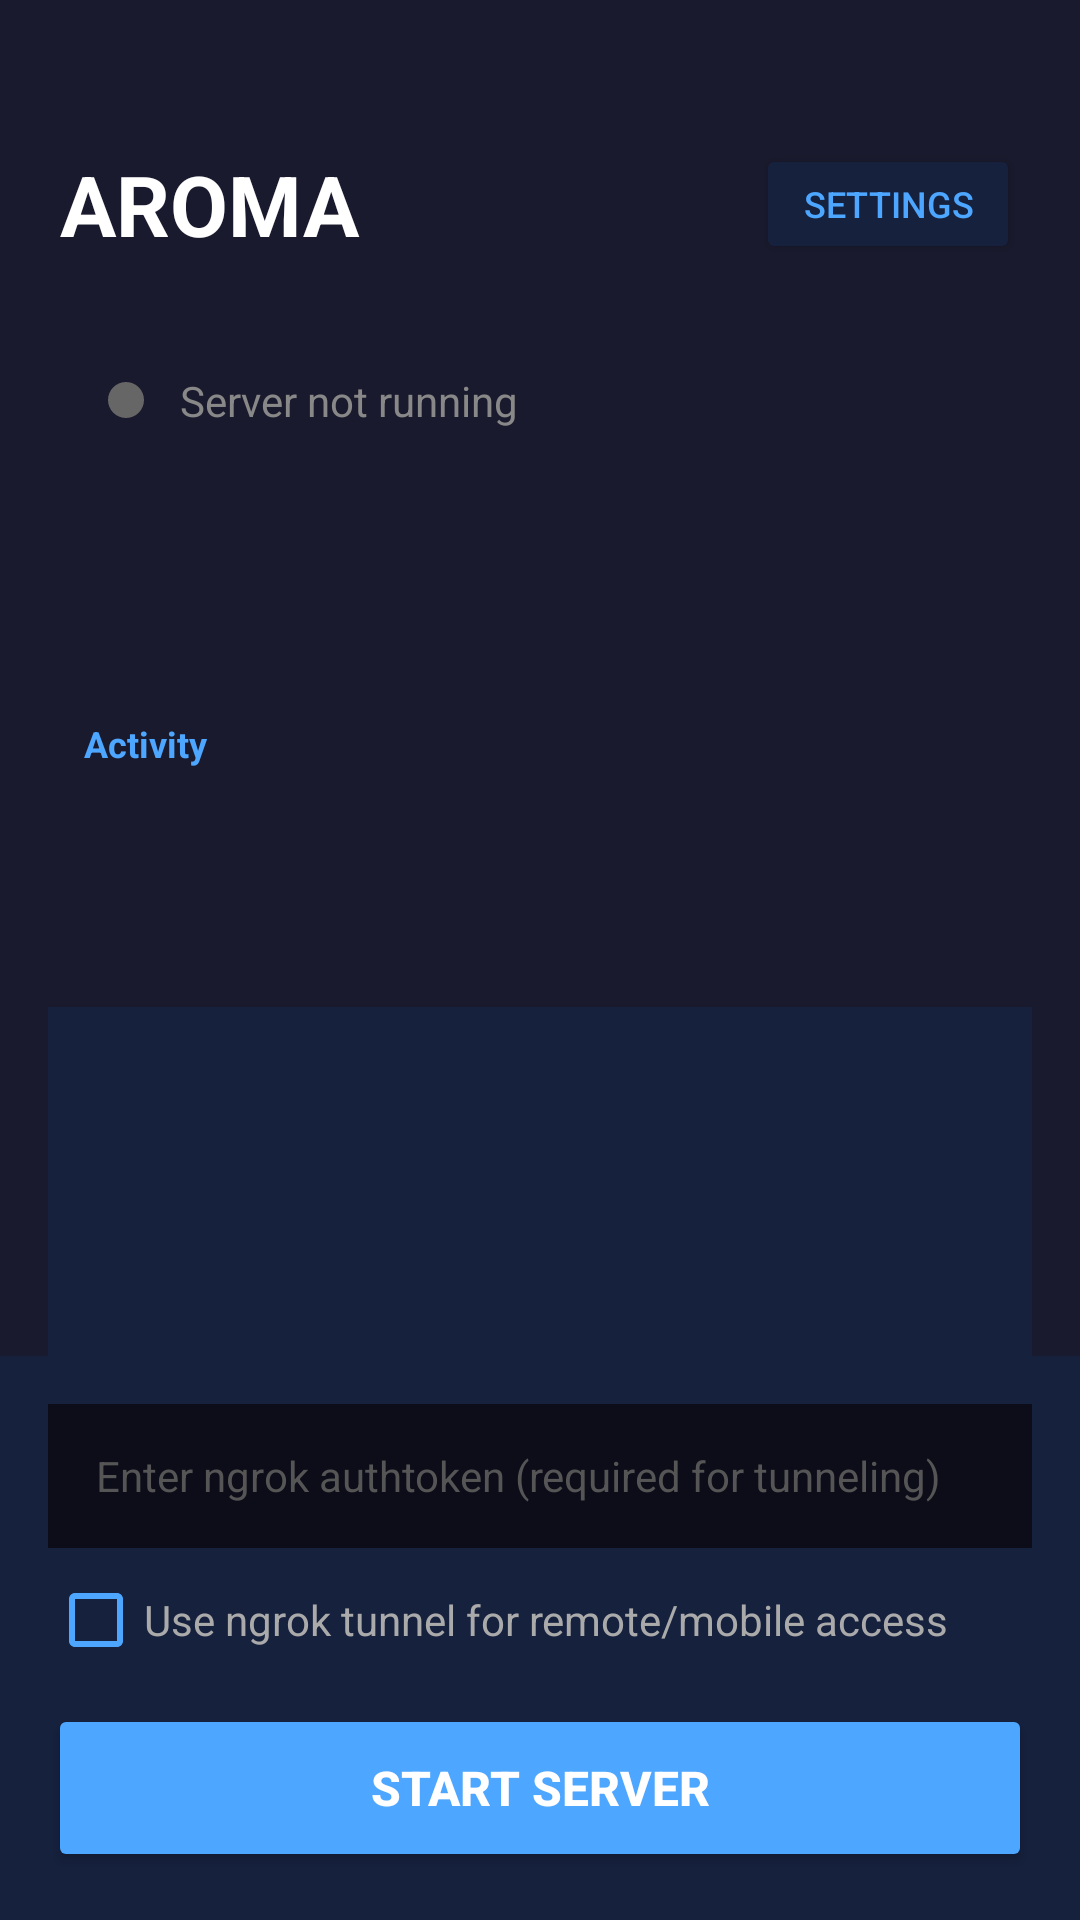

Where icons sit on this 1080×1920 app screen, as bbox(x1, y1, x2, y2):
status dot offline: bbox(108, 382, 144, 418)
